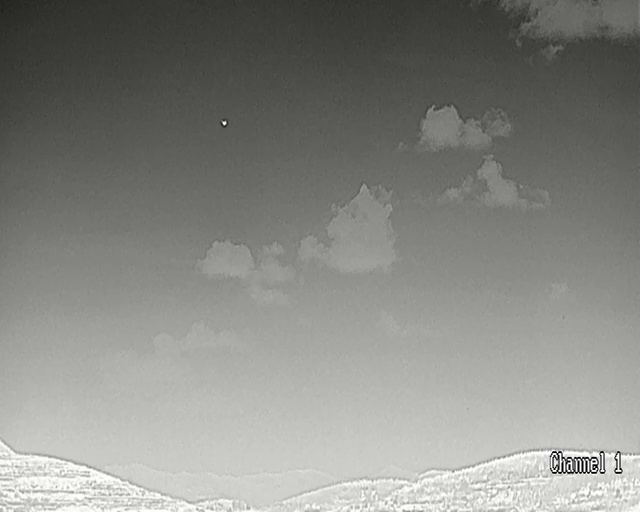uav: (221, 120, 226, 125)
